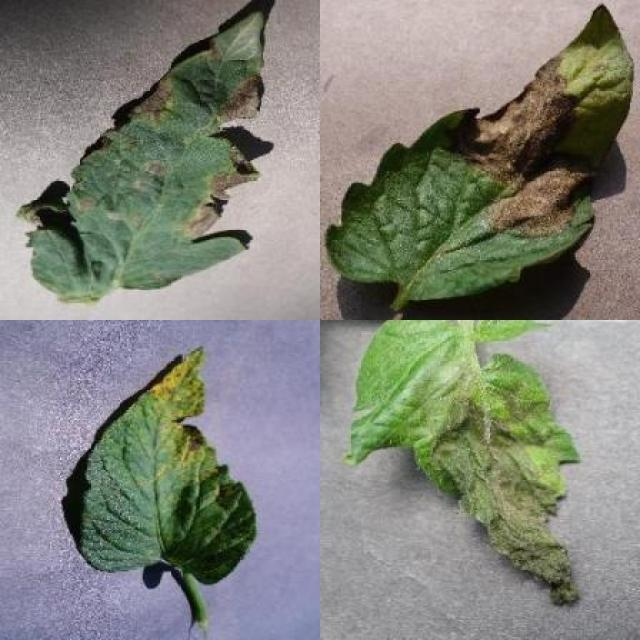Early Blight: (17, 12, 269, 304)
Late Blight: (324, 2, 636, 301), (345, 320, 585, 607)
Septoria: (77, 344, 257, 587)
